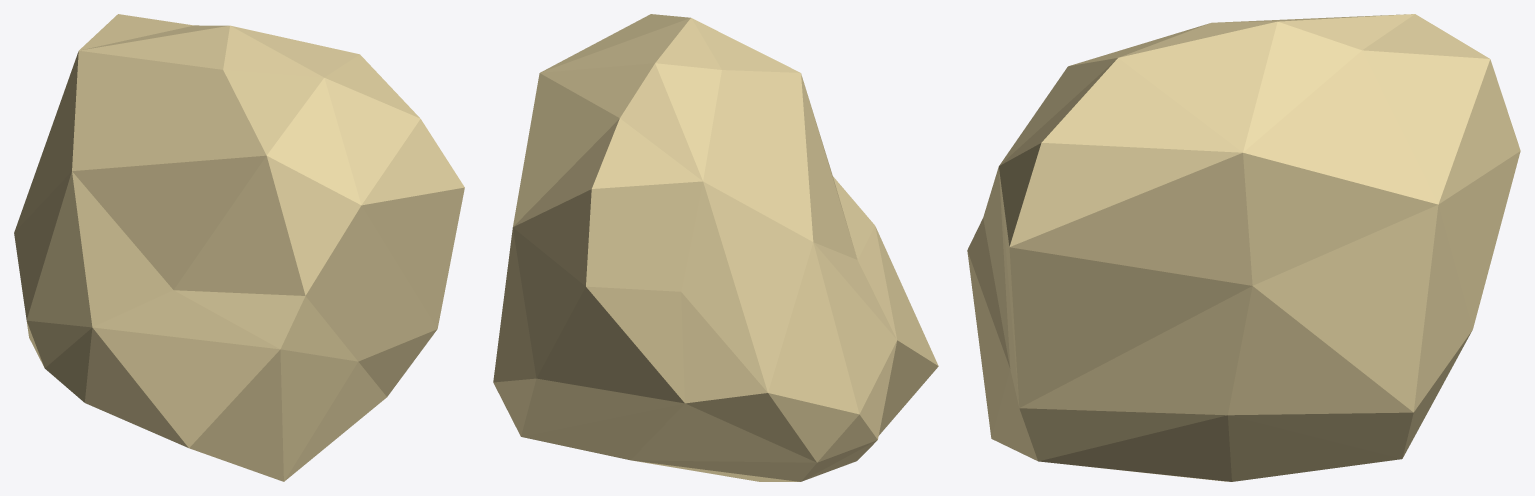
File: Rock (37).fbx
3 renders of one model, left to right at view 1: azimuth 30°, elevation 25°; view 2: azimuth 150°, elevation 25°; view 3: azimuth 270°, elevation 25°, orthographic. The views are drawn at different scales.
Visible parts, largest first — view 1: Asteroid36; view 2: Asteroid36; view 3: Asteroid36.
Part boxes in pixels (<box>): Asteroid36: <box>14,14,464,481</box>; Asteroid36: <box>493,14,938,481</box>; Asteroid36: <box>967,14,1520,481</box>.
Bounding box in the file's own units: 128 × 141 × 151.
